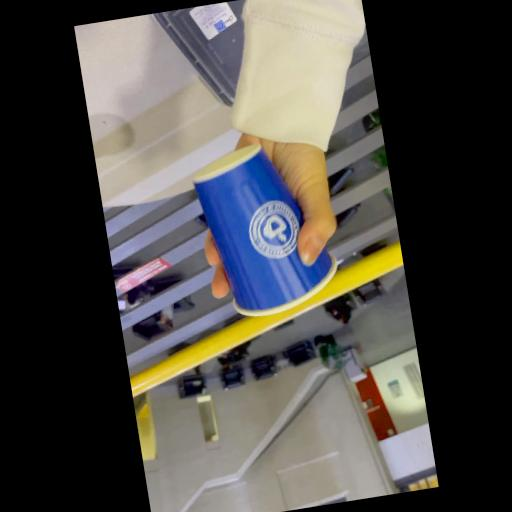lp_paper_cup: (184, 130, 346, 324)
